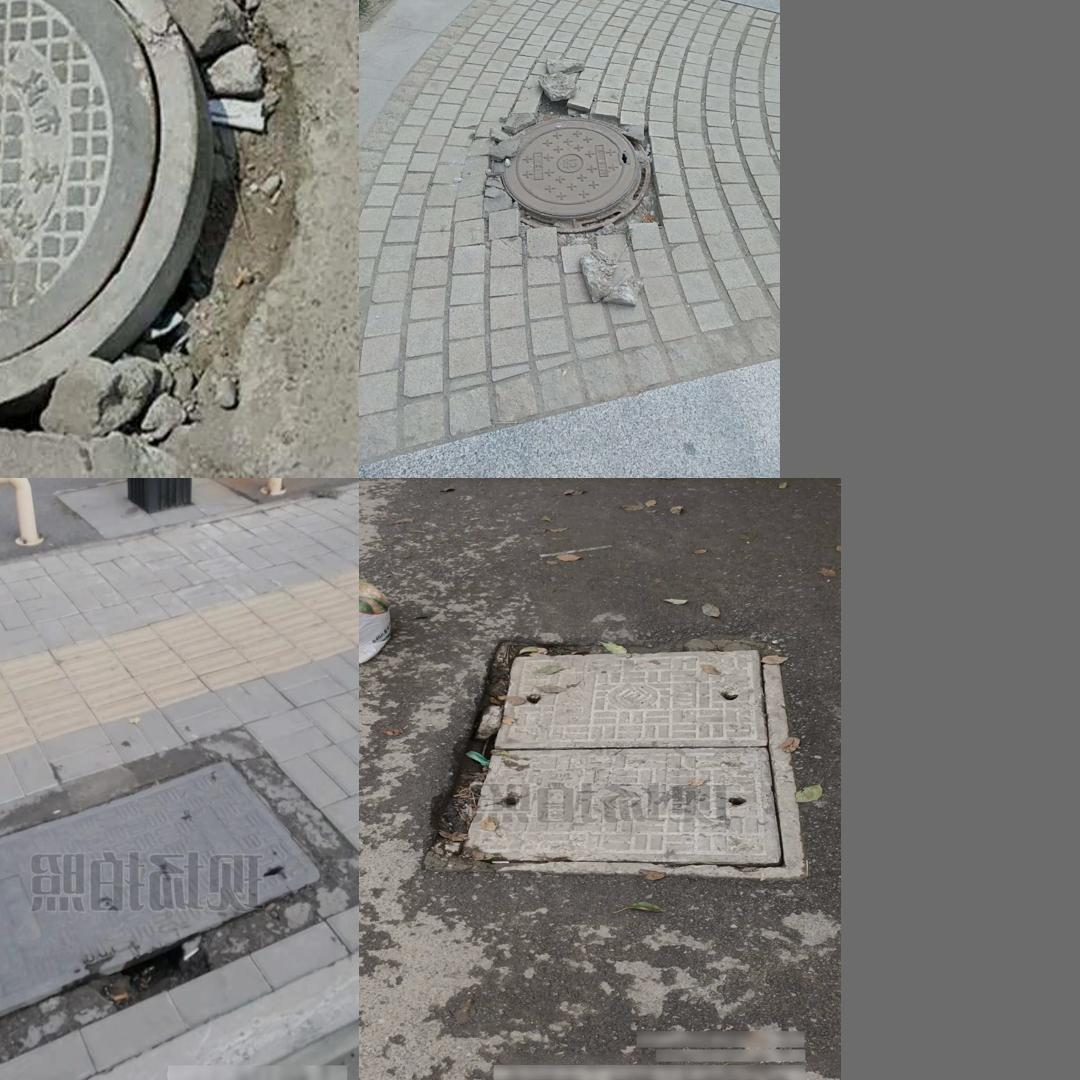circle: (0, 0, 289, 426), (0, 726, 353, 1049), (419, 639, 800, 878), (460, 82, 679, 259)
